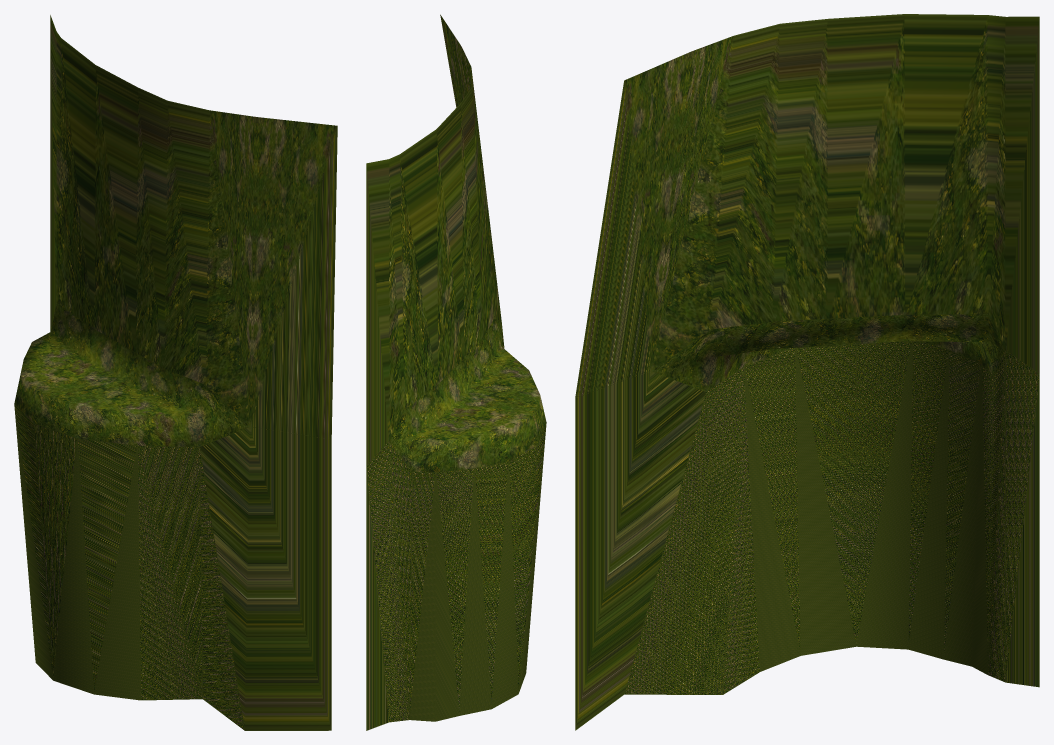
File: OVERHILL_A_01_OH_B_OBJECT52.fbx
The picture shows the model from 3 angles, left to right: view 1: azimuth 30°, elevation 25°; view 2: azimuth 150°, elevation 25°; view 3: azimuth 270°, elevation 25°; orthographic projection. The views are drawn at different scales.
Parts seen in each view (by area): view 1: OVERHILL_A_01_OH_B_OBJECT52; view 2: OVERHILL_A_01_OH_B_OBJECT52; view 3: OVERHILL_A_01_OH_B_OBJECT52.
Boxes of the visible parts, x1,y1,x2,y2 form: OVERHILL_A_01_OH_B_OBJECT52: [14, 15, 337, 730]; OVERHILL_A_01_OH_B_OBJECT52: [366, 14, 546, 730]; OVERHILL_A_01_OH_B_OBJECT52: [575, 14, 1039, 730].
Bounding box in the file's own units: 38479 × 106976 × 66911.
Materials: 1 (1 with a texture image).
